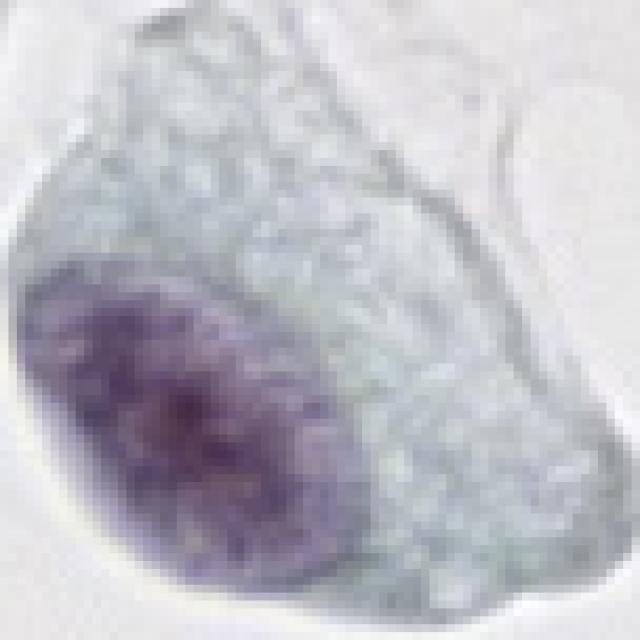nucleus: (0, 174, 413, 640)
